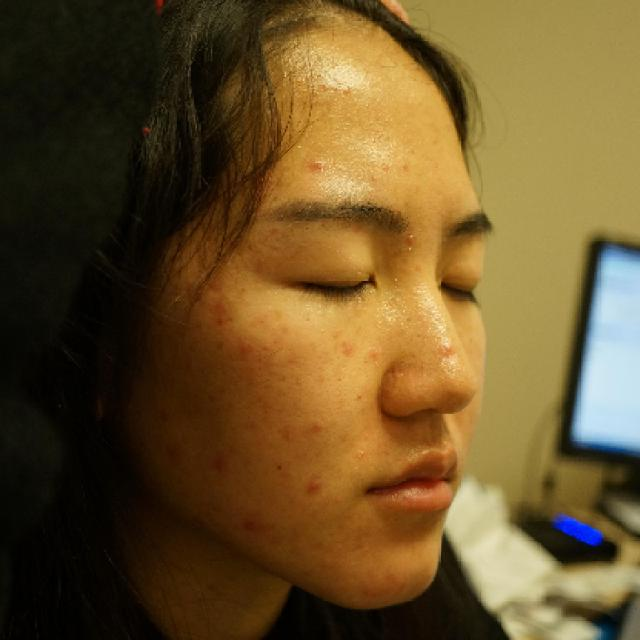Acne: (301, 469, 331, 500), (304, 150, 334, 179), (302, 414, 330, 438)
Whiteheads: (334, 76, 358, 104)
